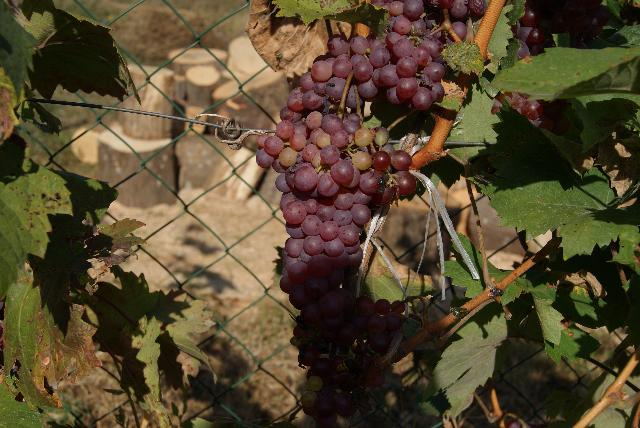grapes: (256, 90, 416, 324), (301, 0, 466, 114)
